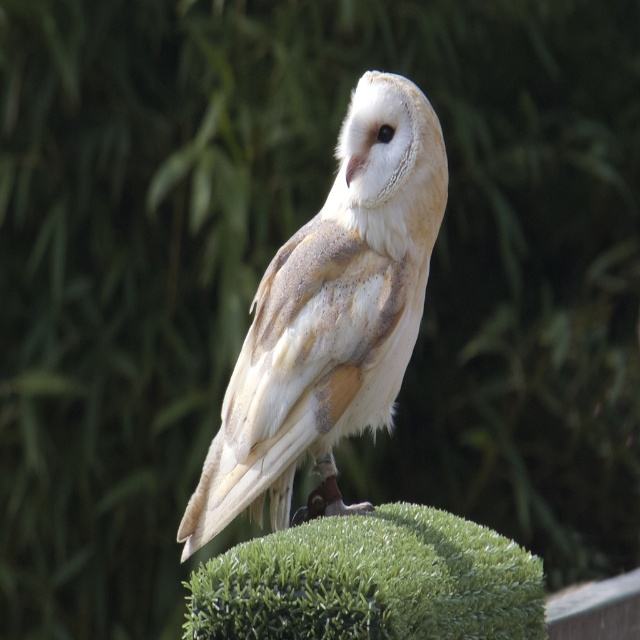Owl: (179, 67, 453, 570)
